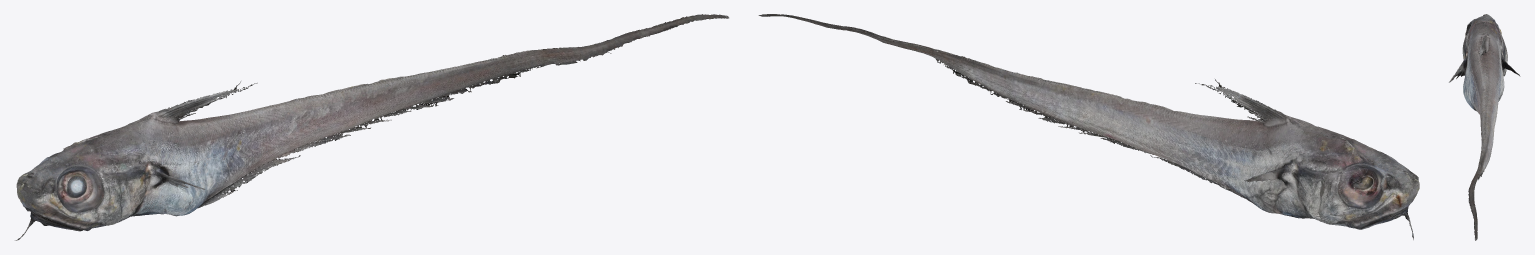
File: grenadier.glb
The picture shows the model from 3 angles, left to right: view 1: azimuth 30°, elevation 25°; view 2: azimuth 150°, elevation 25°; view 3: azimuth 270°, elevation 25°; orthographic projection. The views are drawn at different scales.
Parts seen in each view (by area): view 1: Object_6; view 2: Object_6; view 3: Object_6.
Part boxes in pixels (x1,y1,x2,y2): Object_6: (15, 14, 728, 240); Object_6: (758, 14, 1419, 239); Object_6: (1449, 14, 1520, 240).
Bounding box in the file's own units: 11.43 × 1.92 × 1.55.
1 material, 1 textured.
